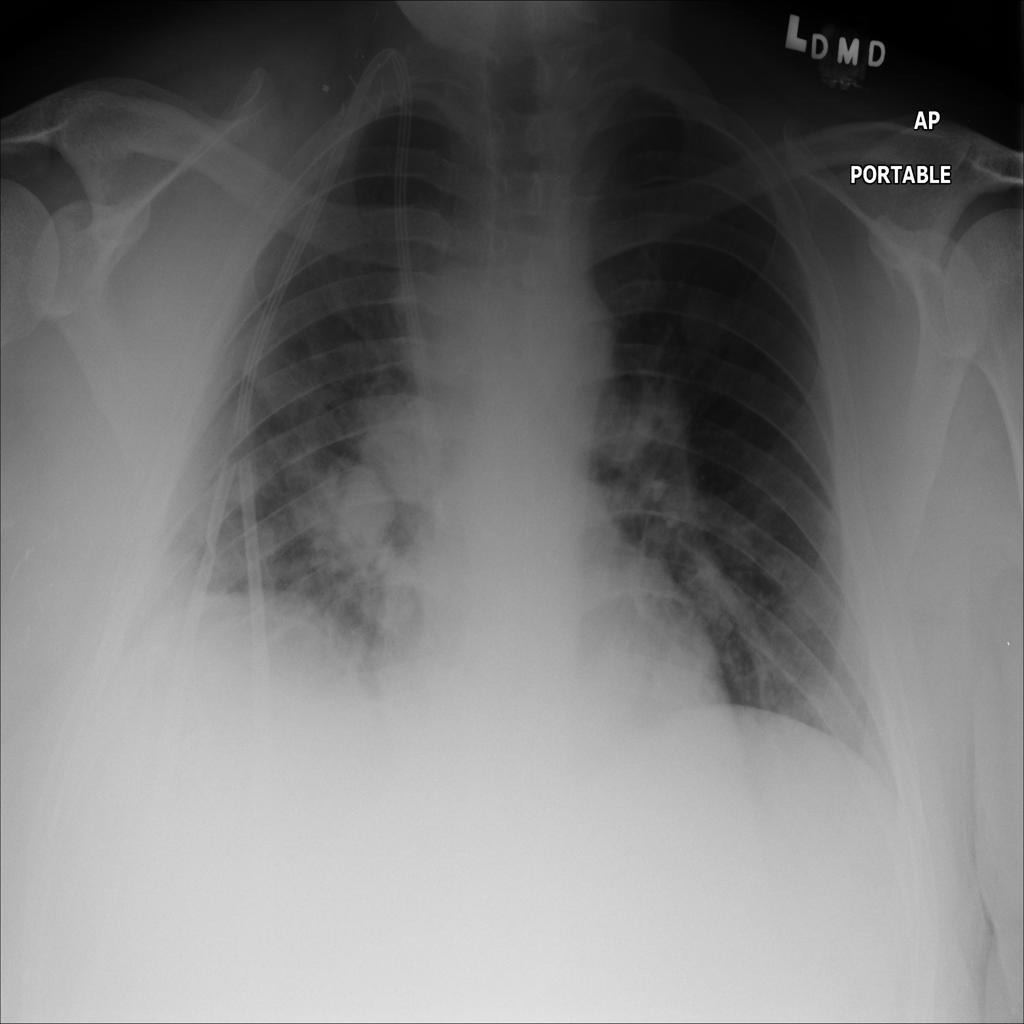nodule: (285, 439, 412, 576), (619, 612, 742, 730)
